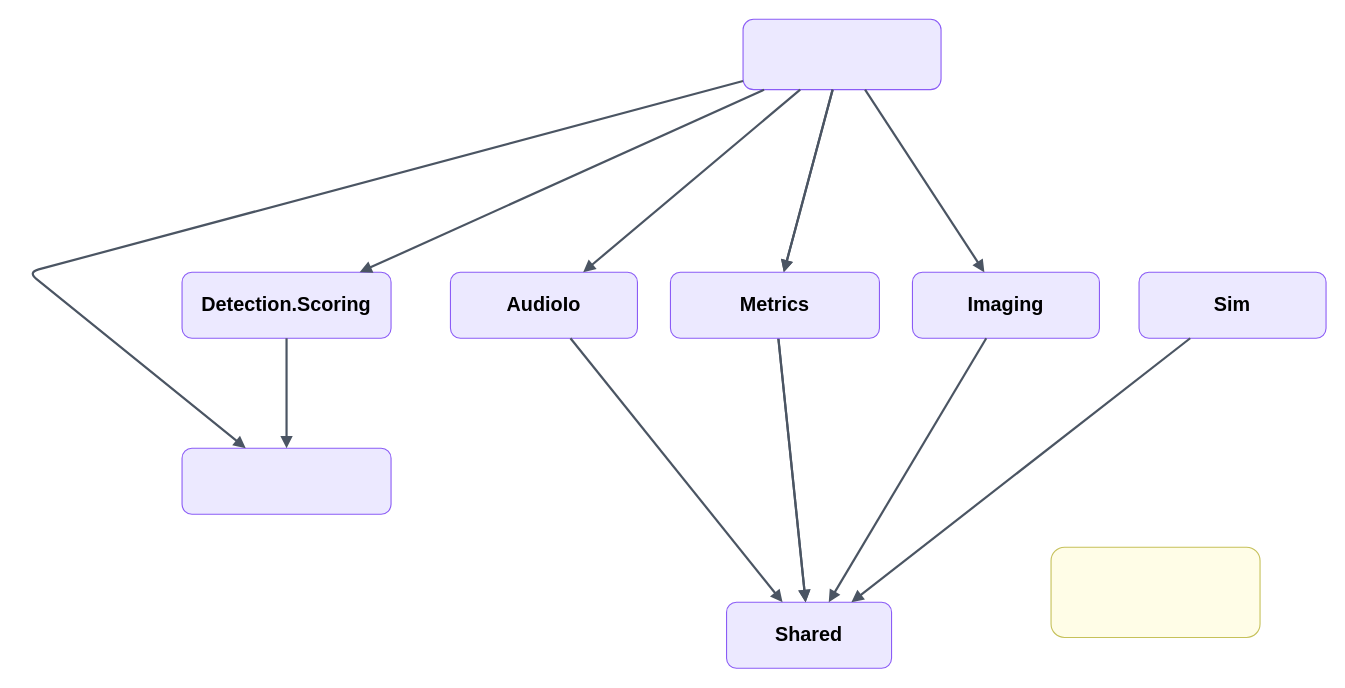
Some shapes in this 1345 by 688 pixel diagram are drawn without their labels. Each missing label, with the centre of its shape:
"Analysis" goes at point (841, 54).
"Detection" goes at point (286, 480).
"Legend A → B : A uses B" goes at point (1155, 591).
